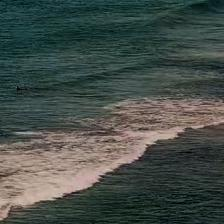surfer: (16, 86, 26, 90)
